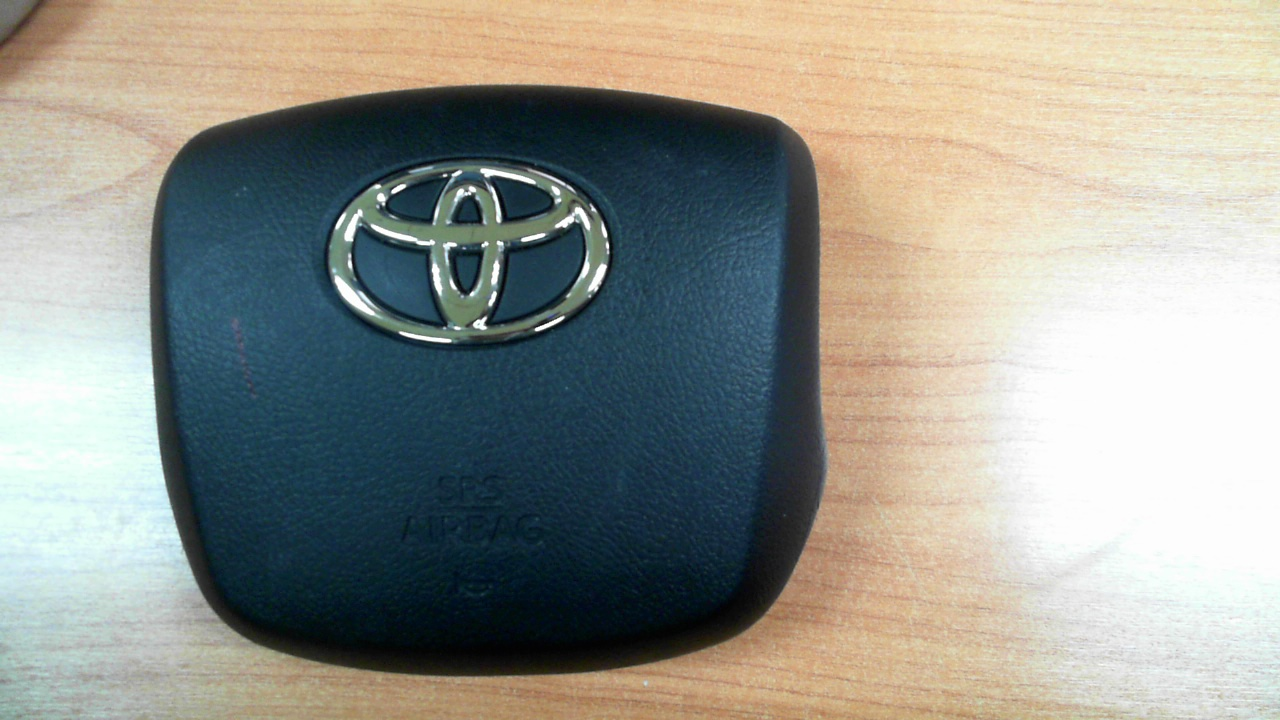Airbag: (148, 83, 827, 677)
Toyota: (328, 159, 611, 345)
